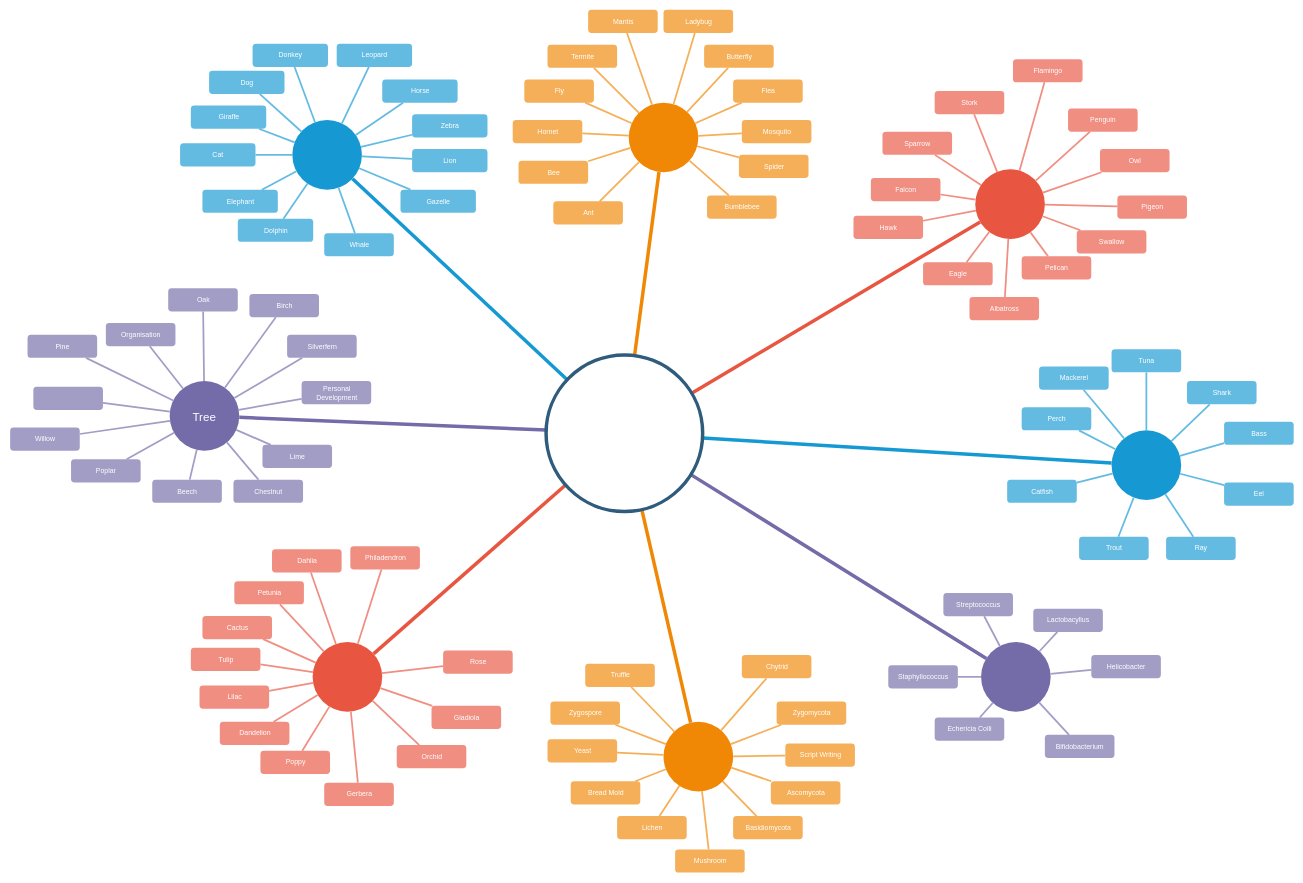
The diagram is 1303 pixels wide and 883 high, and some of its shapes have lost their labels. Here are the shapes that lost their labels. From the top down, the box of each, then its label:
(292, 120, 362, 189): Mammal
(628, 102, 698, 172): Insect
(975, 169, 1045, 239): Bird
(33, 387, 103, 410): Acacia
(544, 353, 704, 513): LIVING BEINGS
(1111, 430, 1181, 500): Fish
(312, 642, 382, 711): Flower
(981, 642, 1050, 711): Bacteria
(663, 722, 733, 791): Fungi
